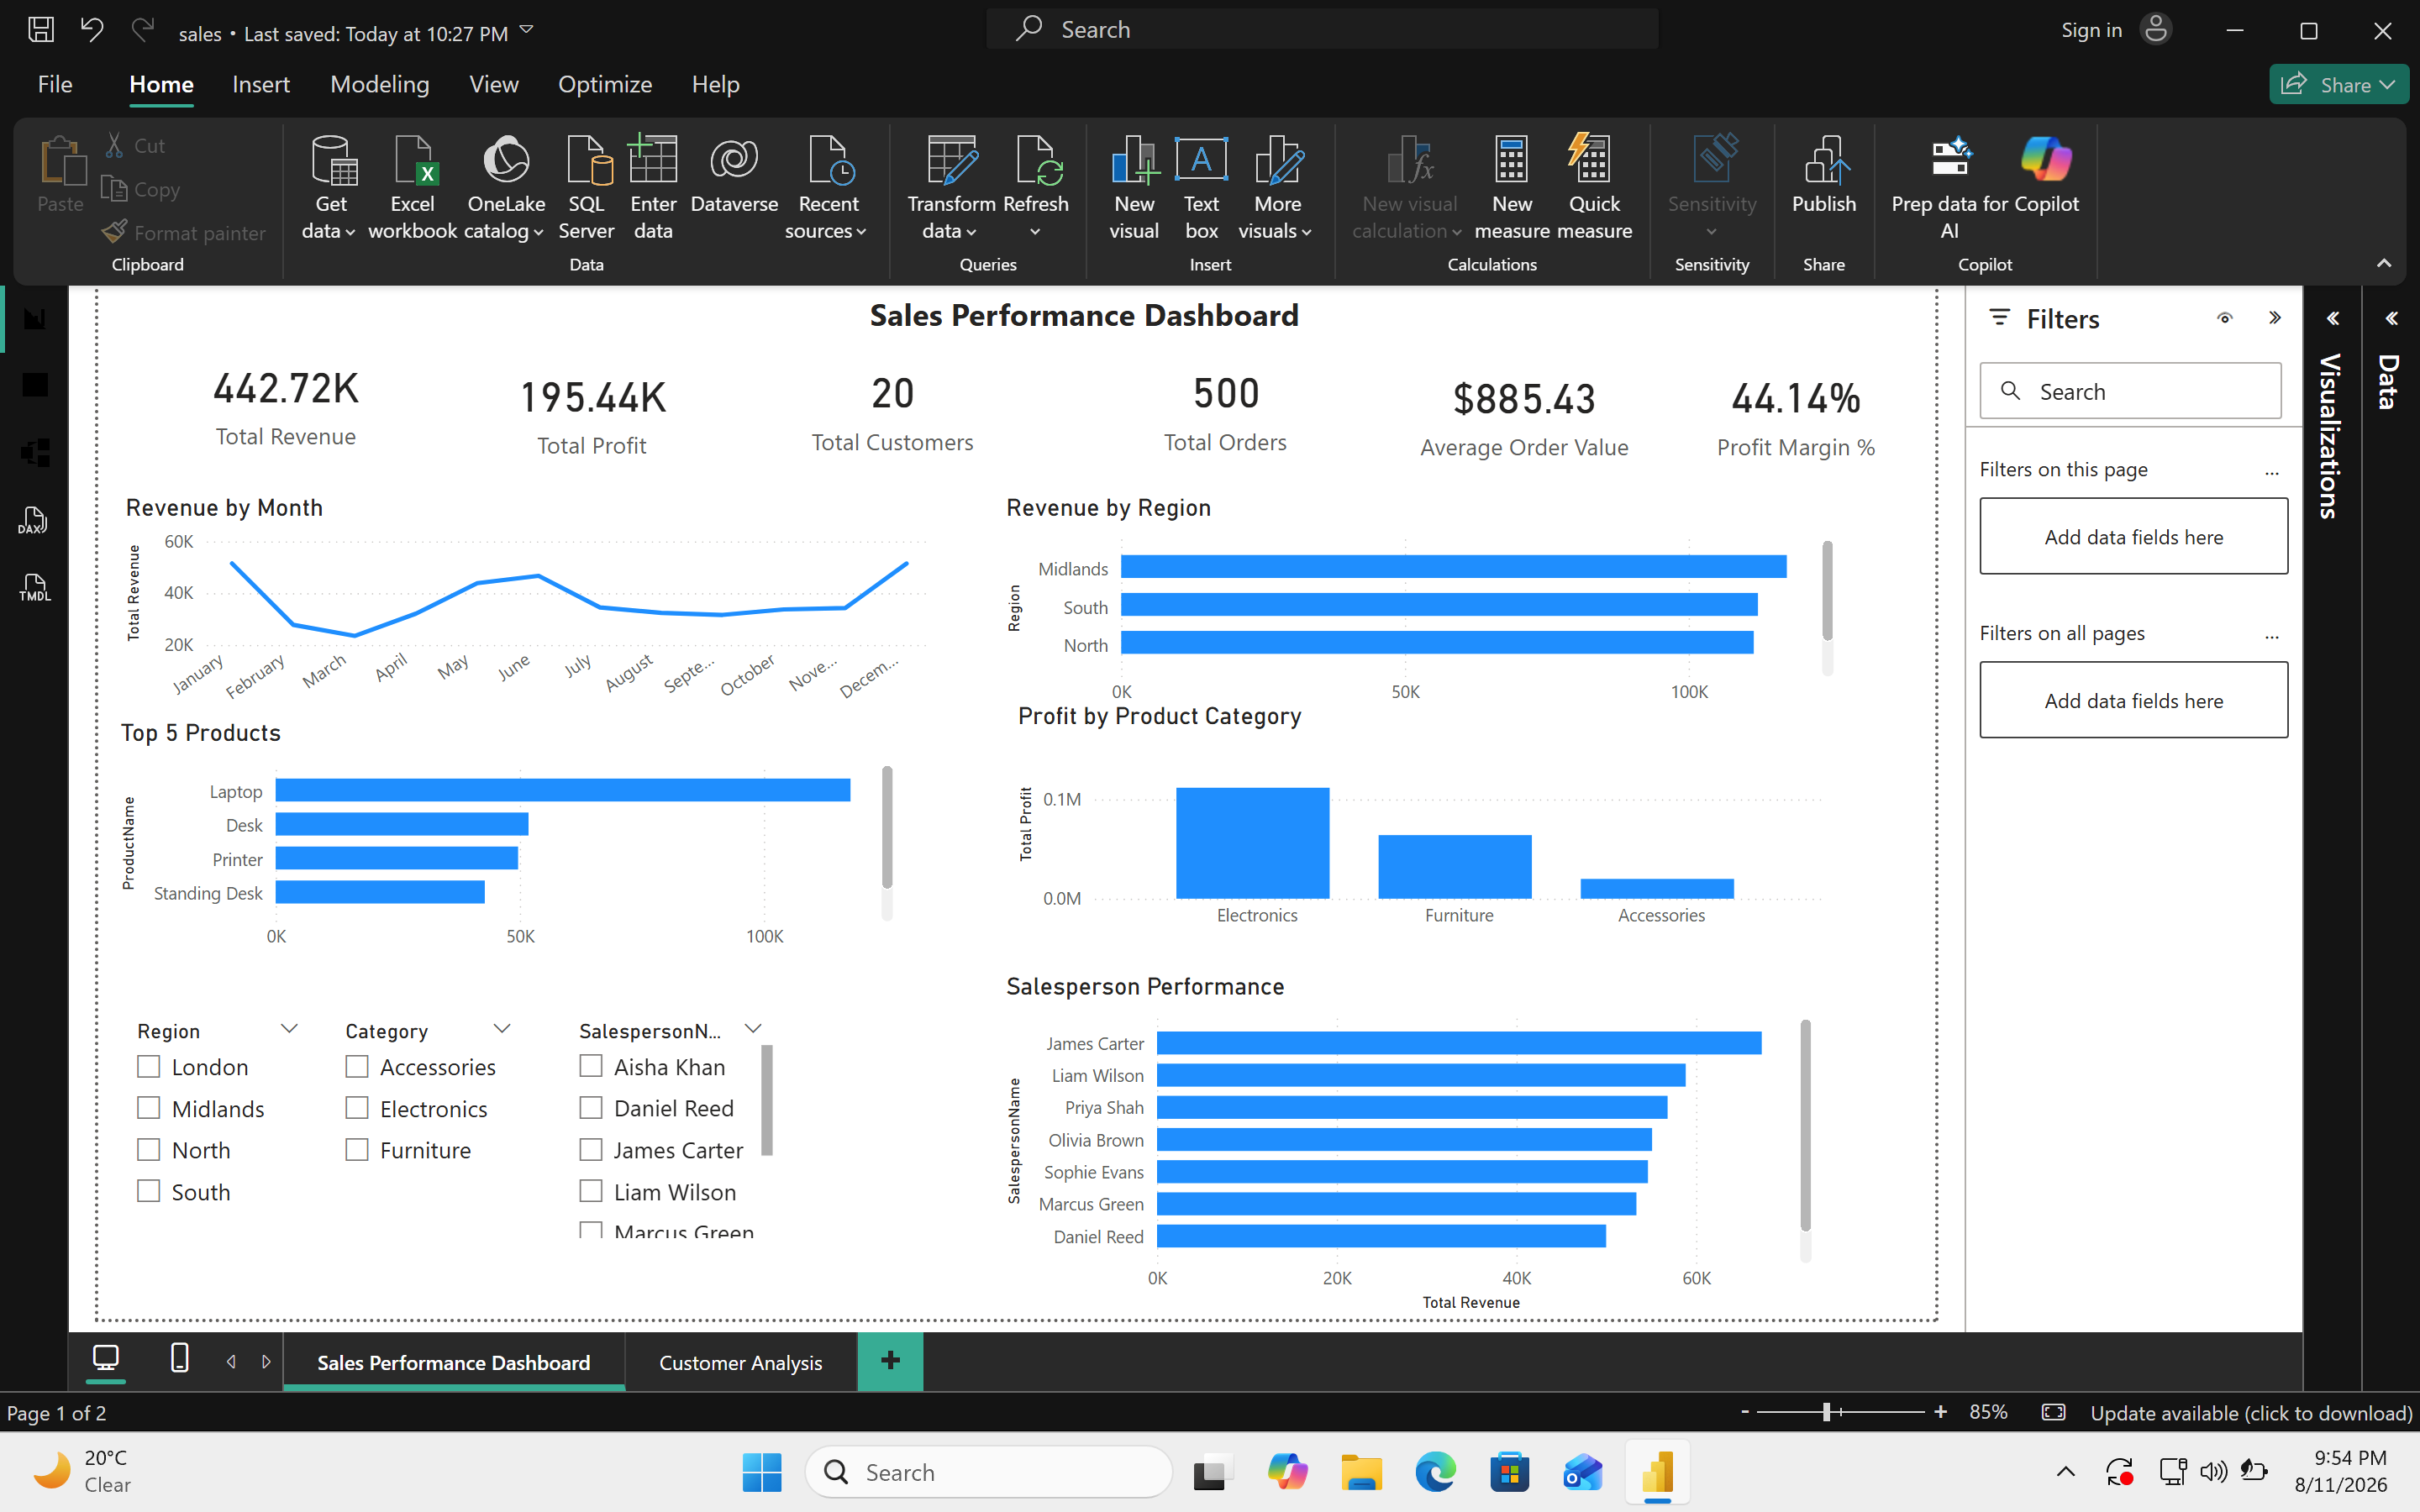

What the dashboard file says about the page in this screenshot:
{"tool":"powerbi","page":{"name":"Sales Performance Dashboard","canvas":[1280,720],"ordinal":0},"visuals":[{"type":"card","fields":{"Values":["Sales.Total Revenue"]},"box":[10.7,18.4,240.4,122.5],"z":0},{"type":"card","fields":{"Values":["Sales.Total Profit"]},"box":[251.1,30.6,186.8,111.8],"z":1000},{"type":"card","fields":{"Values":["Sales.Total Orders"]},"box":[669.1,36.7,231.2,94.9],"z":2000},{"type":"card","fields":{"Values":["Sales.Total Customers"]},"box":[437.9,38.3,231.2,90.3],"z":3000},{"type":"card","fields":{"Values":["Sales.Average Order Value"]},"box":[900.3,33.7,186.8,107.2],"z":4000},{"type":"lineChart","title":"Revenue by Month","fields":{"Y":["Sales.Total Revenue"],"Category":["Sales.SaleDate.Variation.Date Hierarchy.Month"]},"box":[13.8,145.5,571.1,156.2],"z":5000},{"type":"barChart","title":"Revenue by Region","fields":{"Y":["Sales.Total Revenue"],"Category":["Salespeople.Region"]},"box":[627.8,145.5,586.4,156.2],"z":6000},{"type":"columnChart","title":"Profit by Product Category","fields":{"Category":["Products.Category"],"Y":["Sales.Total Profit"]},"box":[635.4,290.9,571.1,166.9],"z":6001},{"type":"barChart","title":"Salesperson Performance","fields":{"Y":["Sales.Total Revenue"],"Category":["Salespeople.SalespersonName"]},"box":[627.8,479.2,571.1,240.4],"z":6002},{"type":"slicer","fields":{"Values":["Salespeople.Region"]},"box":[13.8,505.3,137.8,179.1],"z":6003},{"type":"slicer","fields":{"Values":["Products.Category"]},"box":[159.2,505.3,140.9,162.3],"z":6004},{"type":"slicer","fields":{"Values":["Salespeople.SalespersonName"]},"box":[321.5,505.3,153.1,162.3],"z":6005},{"type":"textbox","box":[532.8,0,320,45.9],"z":6006},{"type":"barChart","title":"Top 5 Products ","fields":{"Y":["Sales.Total Revenue"],"Category":["Products.ProductName"]},"box":[10.7,301.6,548.1,170],"z":6007},{"type":"card","fields":{"Values":["Sales.Profit Margin %"]},"box":[1103.9,39.8,157.7,94.9],"z":6008}]}

Visuals, with their boxes on the page's 1280x720 design canvas (x1, y1, x2, y2). These are canvas units, not pixel positions in the 2420x1512 screenshot, which may show the page scaled, cropped or inside an application window:
card - Sales.Total Revenue: [left=11, top=18, right=251, bottom=141]
card - Sales.Total Profit: [left=251, top=31, right=438, bottom=142]
card - Sales.Total Orders: [left=669, top=37, right=900, bottom=132]
card - Sales.Total Customers: [left=438, top=38, right=669, bottom=129]
card - Sales.Average Order Value: [left=900, top=34, right=1087, bottom=141]
"Revenue by Month" lineChart: [left=14, top=146, right=585, bottom=302]
"Revenue by Region" barChart: [left=628, top=146, right=1214, bottom=302]
"Profit by Product Category" columnChart: [left=635, top=291, right=1206, bottom=458]
"Salesperson Performance" barChart: [left=628, top=479, right=1199, bottom=720]
slicer - Salespeople.Region: [left=14, top=505, right=152, bottom=684]
slicer - Products.Category: [left=159, top=505, right=300, bottom=668]
slicer - Salespeople.SalespersonName: [left=322, top=505, right=475, bottom=668]
textbox: [left=533, top=0, right=853, bottom=46]
"Top 5 Products " barChart: [left=11, top=302, right=559, bottom=472]
card - Sales.Profit Margin %: [left=1104, top=40, right=1262, bottom=135]
